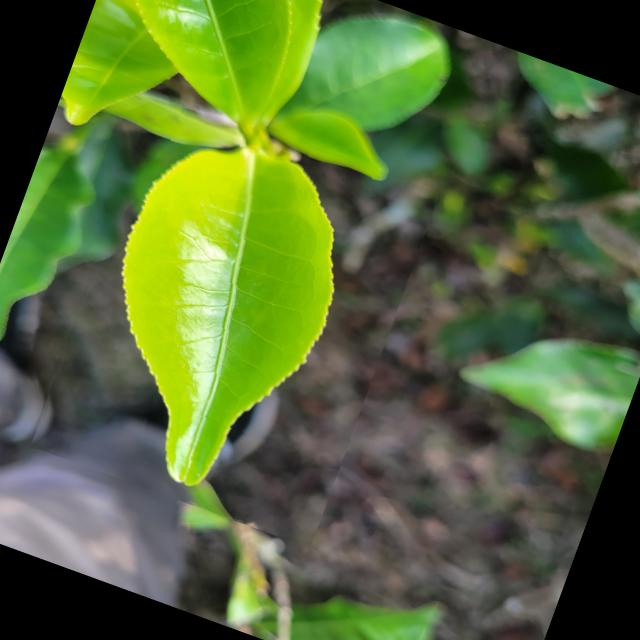Category B(2-4 days): (23, 84, 441, 548)
